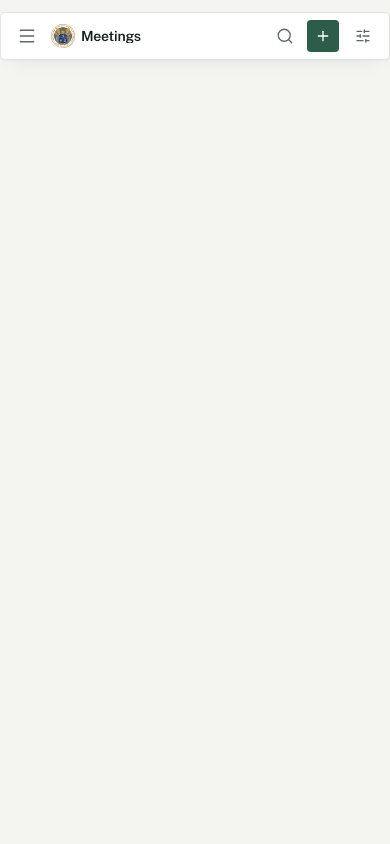
it: top bar › carries the phone's own navigation and the seal as the way home, which the rail owns on a desktop
What coordinates should you click on to do the following:
click the button named "Open navigation"
I would click on:
 (27, 36)
Its box is [9,18,45,54].
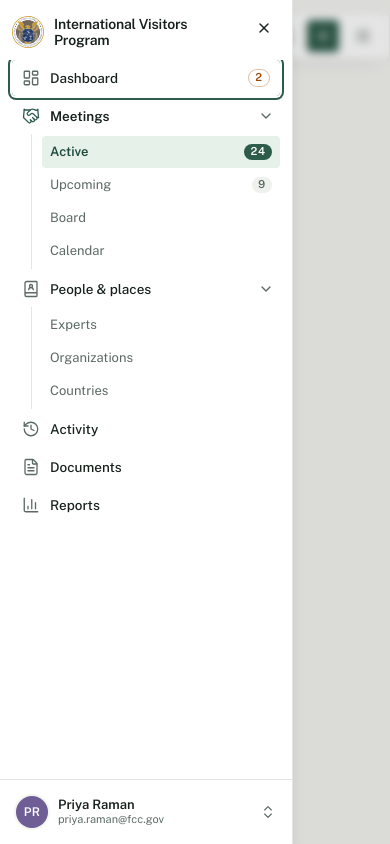
Expected: the navigation bar named "Primary" is shown, [0,60,292,523]
